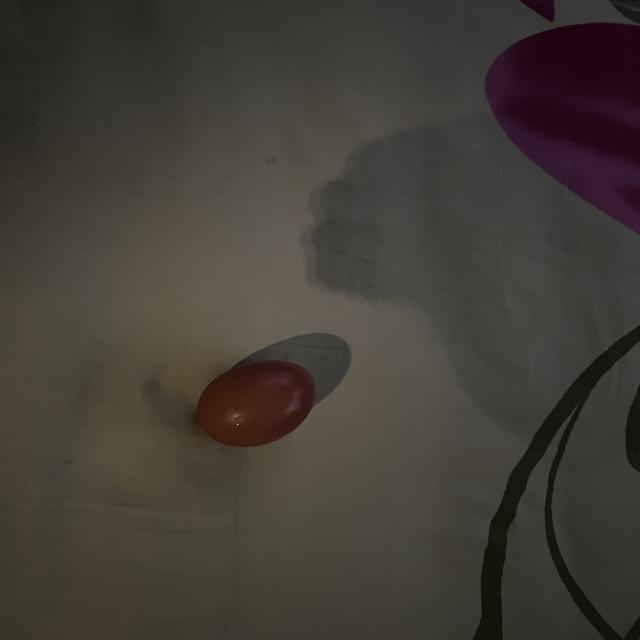Egg: (192, 354, 327, 448)
